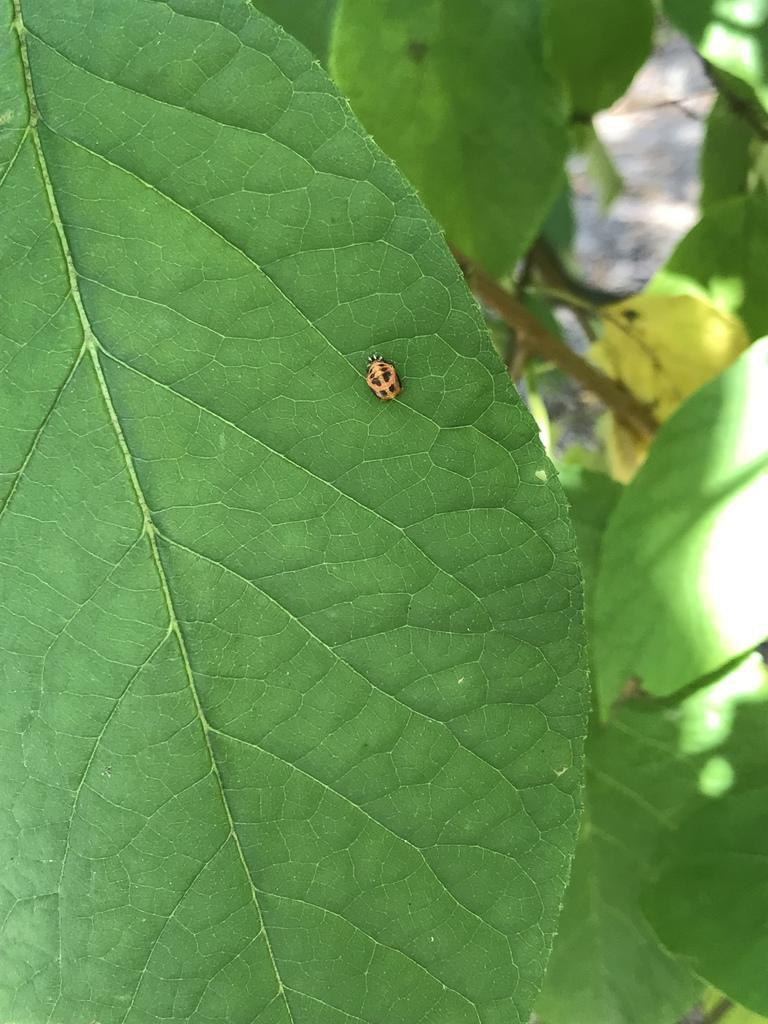ladybug: (364, 352, 407, 403)
